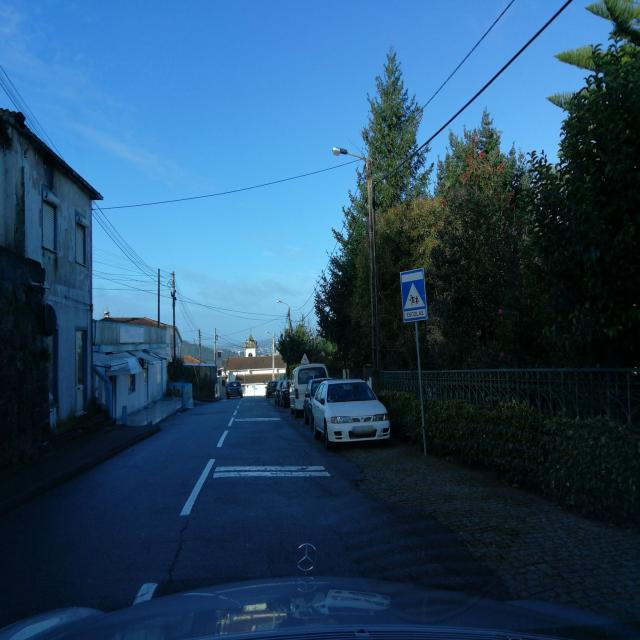car: (312, 378, 392, 450), (288, 364, 328, 416), (303, 379, 327, 425), (278, 378, 292, 408), (226, 379, 244, 400), (265, 379, 278, 398)
